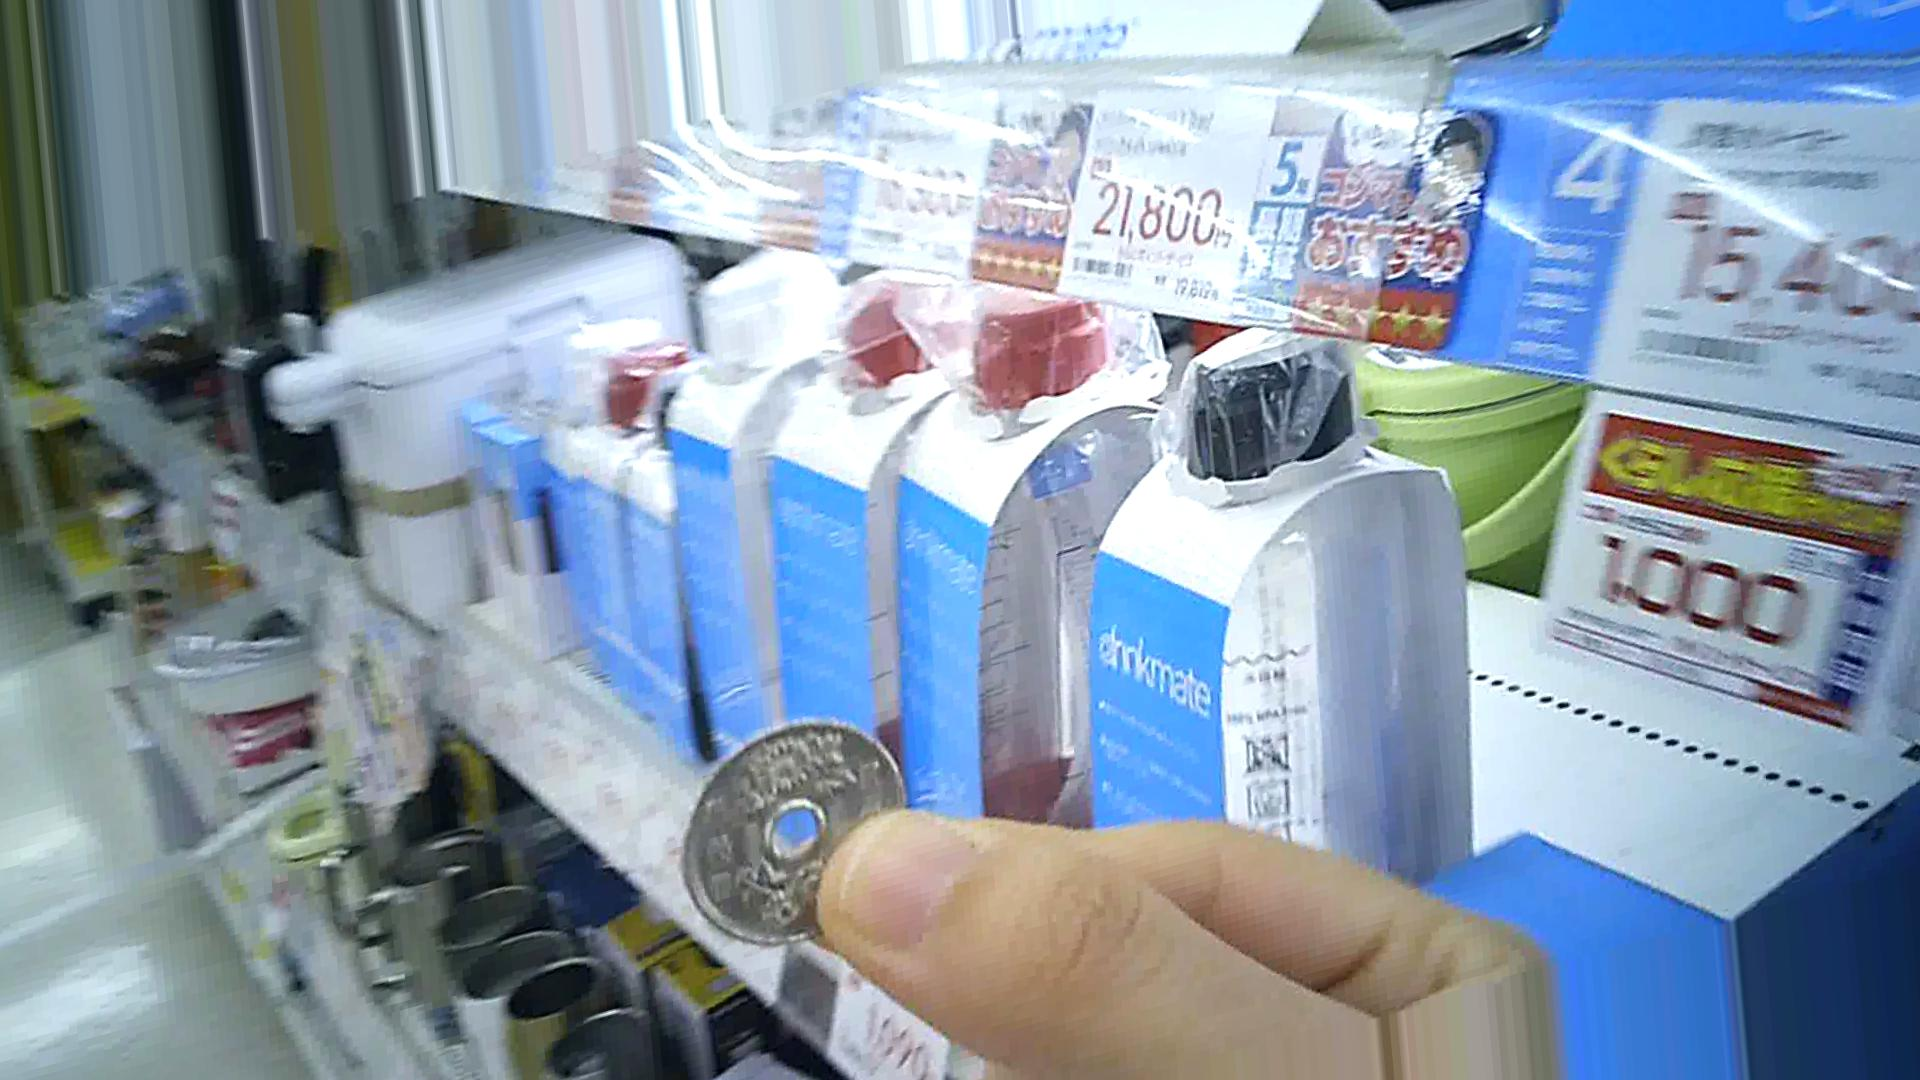50 Yen: (666, 727, 916, 943)
